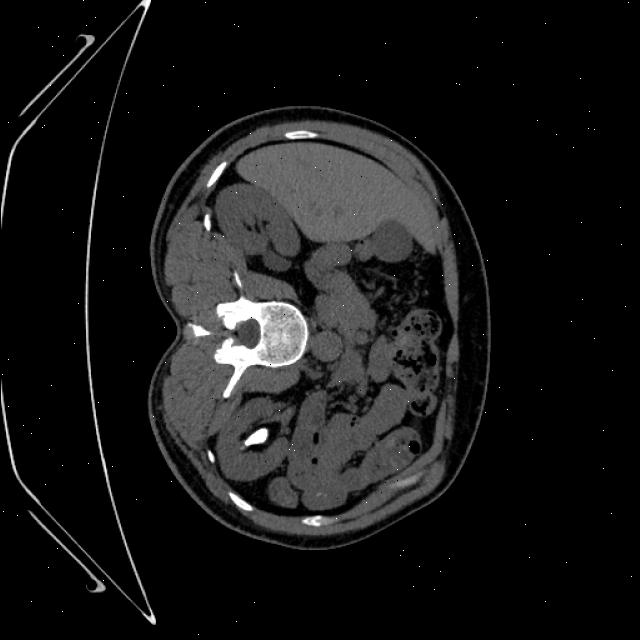kidneystone: (243, 429, 268, 445)
